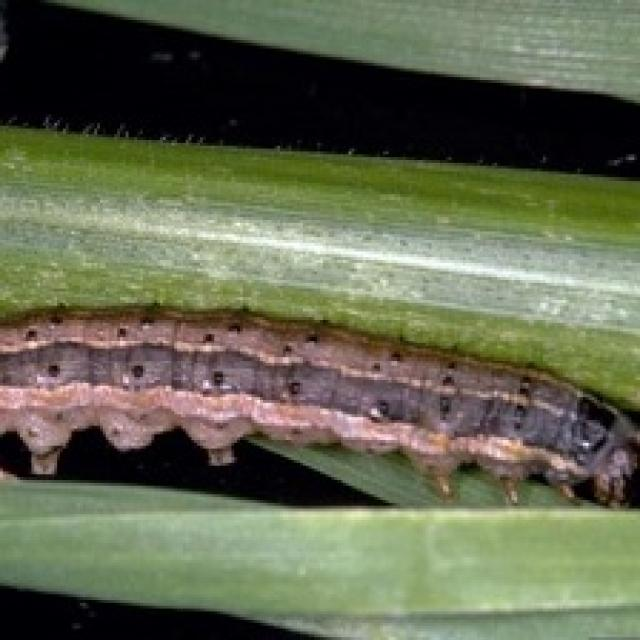Fall-armyworm: (1, 300, 640, 538)
